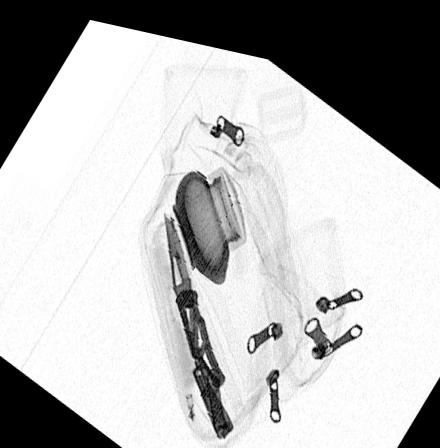Knife: (161, 205, 234, 431)
